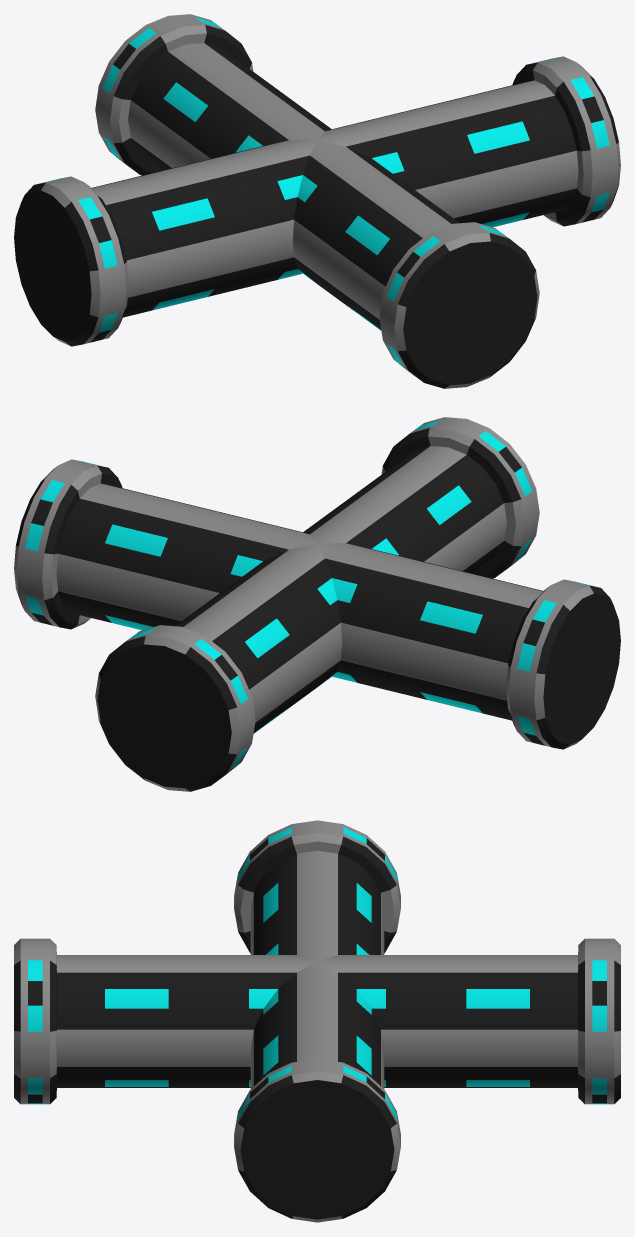
Rendered from pipe cross intersection (1).fbx.
3 renders of one model, top to bottom at view 1: azimuth 30°, elevation 25°; view 2: azimuth 150°, elevation 25°; view 3: azimuth 270°, elevation 25°, orthographic.
Parts seen in each view (by area): view 1: pCylinder8; view 2: pCylinder8; view 3: pCylinder8.
Boxes of the visible parts, box(x1,y1,x2,y2) form: pCylinder8: box(14, 14, 620, 388); pCylinder8: box(14, 417, 620, 791); pCylinder8: box(14, 820, 620, 1222).
Bounding box in the file's own units: 41.72 × 11.48 × 41.72.
